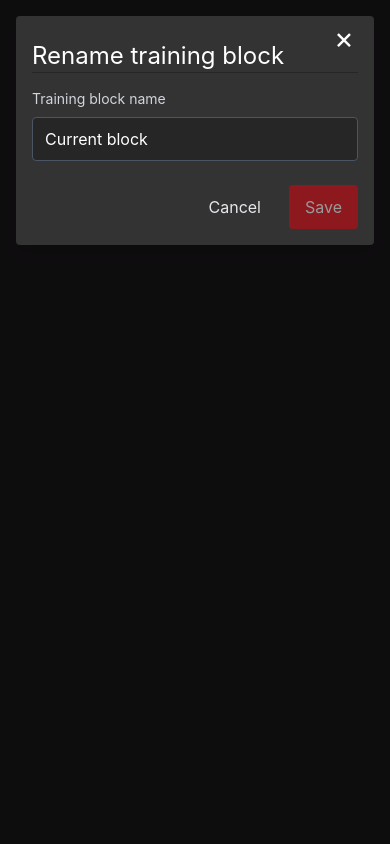
RenameMesocycleModal › keeps the modal open and displays an API error
This screenshot has width=390, height=844.
Replace the text in the field labelled "Training block name" with "Existing block" at (195, 139), box [32,117,358,161]
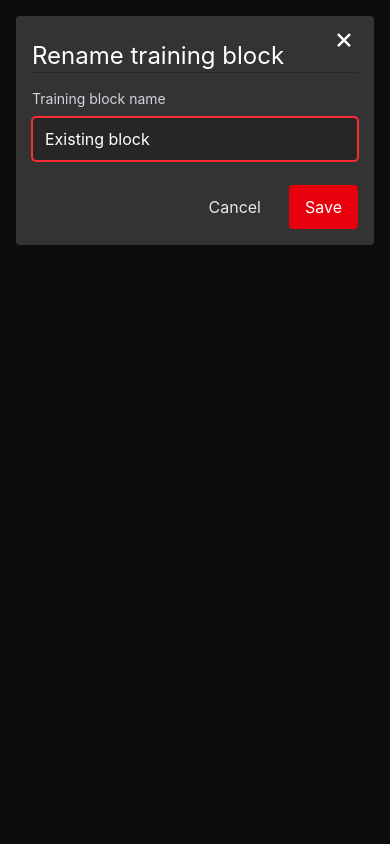
Click the button "Save" at (324, 207), box [289,185,358,229]
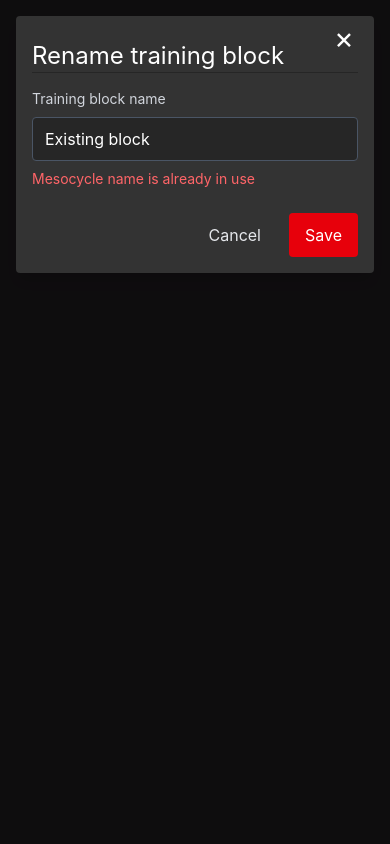
Expected: the button "Save" is enabled, [289,213,358,257]
Expected: the message reads "Mesocycle name is already in use", [32,170,255,187]
